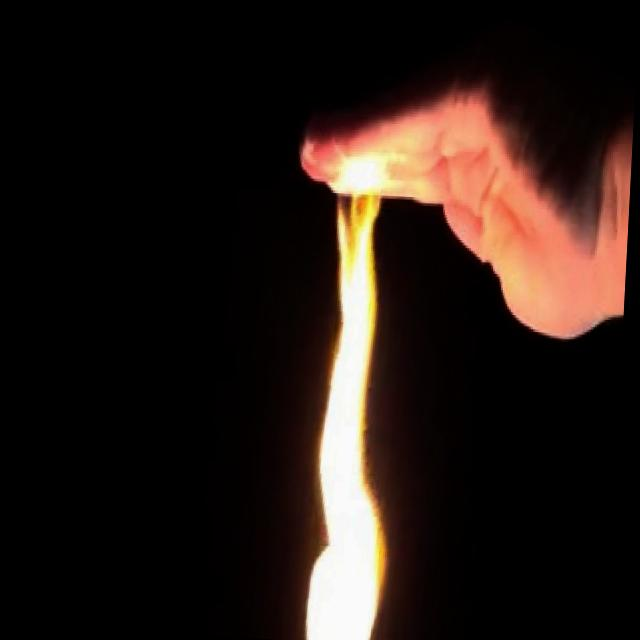helmet: (285, 143, 444, 640)
